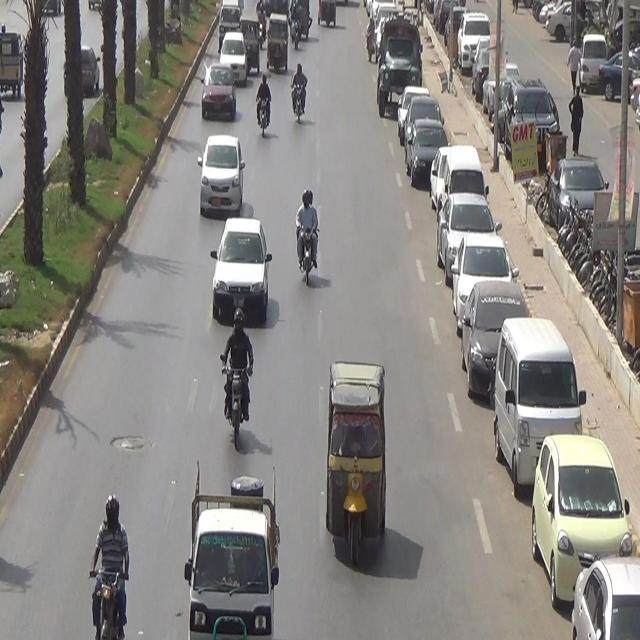car: (531, 436, 626, 604), (504, 321, 586, 487), (458, 276, 522, 392), (208, 216, 273, 320), (571, 542, 640, 639), (436, 182, 495, 276), (193, 127, 250, 221), (451, 233, 509, 308), (438, 139, 494, 209), (196, 61, 243, 121), (408, 123, 445, 187), (219, 32, 251, 83), (407, 81, 438, 118)
motorbike: (86, 491, 139, 640), (218, 305, 257, 455), (294, 184, 326, 288), (252, 64, 276, 140), (290, 60, 312, 130)
truck: (179, 453, 296, 640), (377, 16, 423, 126)
